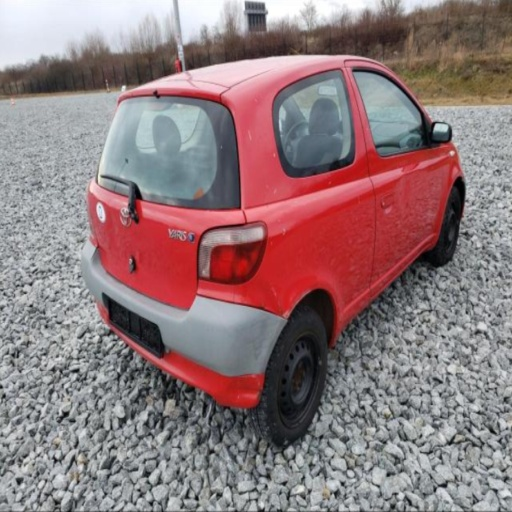dent: (271, 286, 281, 307)
rust: (252, 389, 263, 405)
scratch: (242, 314, 278, 368), (278, 286, 312, 324)
